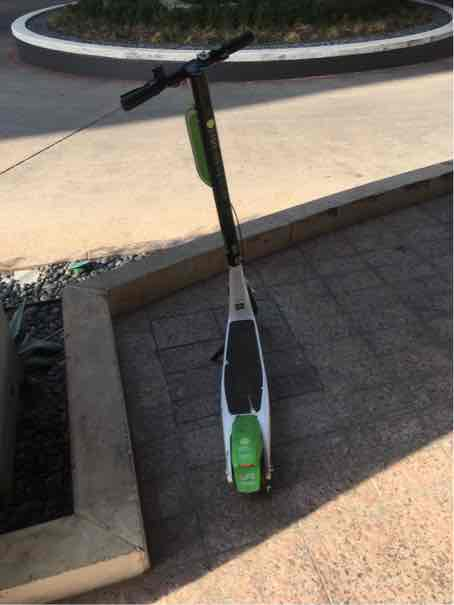scooter: (118, 30, 287, 504)
